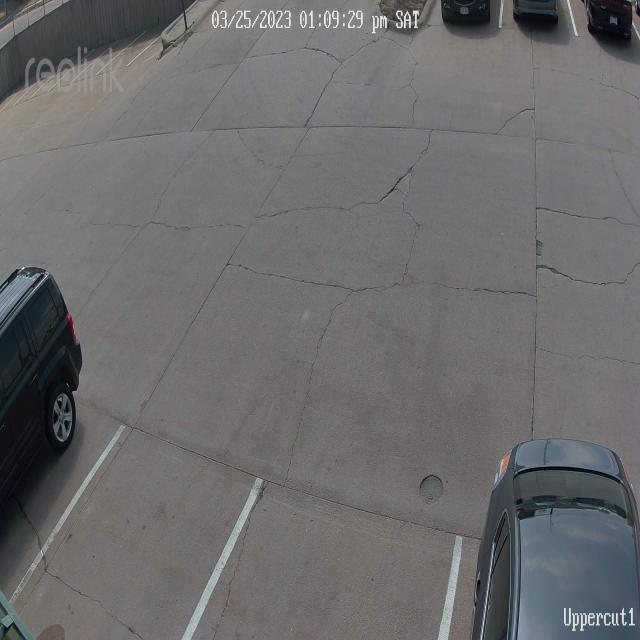Empty-slot: (185, 433, 476, 640), (6, 431, 270, 640)
Slot-Occupied: (477, 440, 640, 640), (0, 268, 84, 534), (588, 0, 637, 45), (442, 0, 496, 40), (516, 0, 563, 26)
